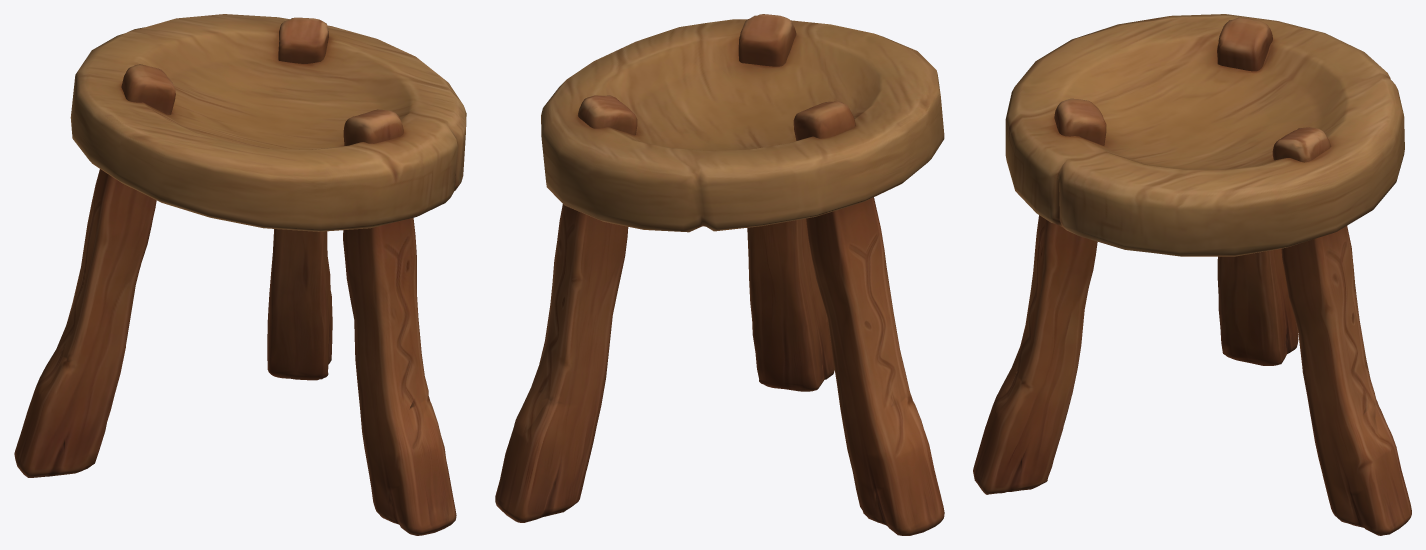
The picture shows the model from 3 angles, left to right: view 1: azimuth 30°, elevation 25°; view 2: azimuth 150°, elevation 25°; view 3: azimuth 270°, elevation 25°; orthographic projection. The views are drawn at different scales.
Parts seen in each view (by area): view 1: tripo_node_24d4af91-ab46-48d9-8945-91c2308a8b68; view 2: tripo_node_24d4af91-ab46-48d9-8945-91c2308a8b68; view 3: tripo_node_24d4af91-ab46-48d9-8945-91c2308a8b68.
Boxes of the visible parts, x1=… form: tripo_node_24d4af91-ab46-48d9-8945-91c2308a8b68: x1=14, y1=14, x2=466, y2=535; tripo_node_24d4af91-ab46-48d9-8945-91c2308a8b68: x1=495, y1=14, x2=944, y2=535; tripo_node_24d4af91-ab46-48d9-8945-91c2308a8b68: x1=973, y1=14, x2=1411, y2=535.
Bounding box in the file's own units: 0.998 × 0.9941 × 0.998.
1 material, 1 textured.
